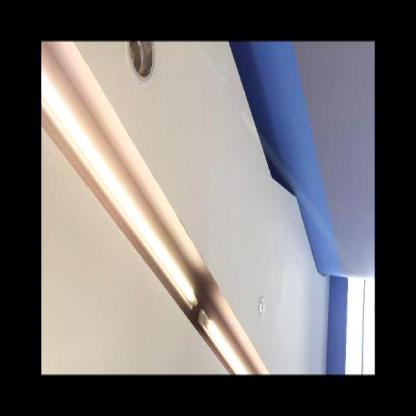light_on: (41, 69, 201, 322), (200, 312, 254, 374)
